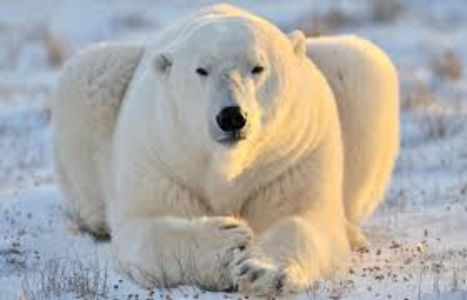bear: (63, 9, 406, 285)
